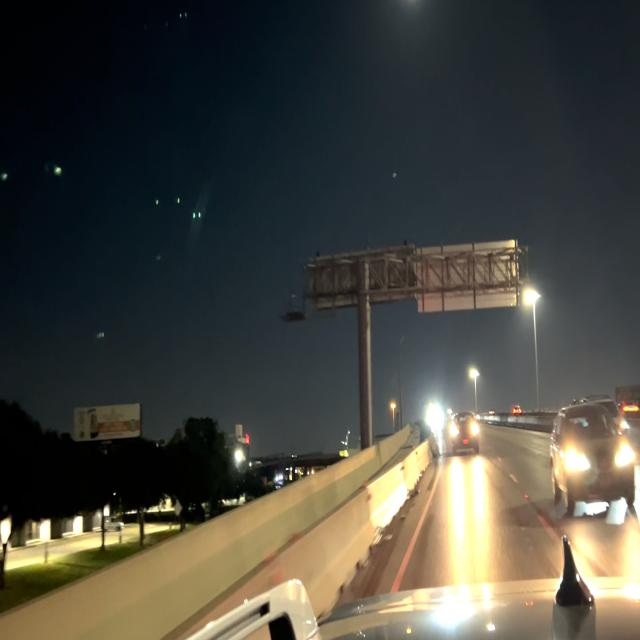back-of-sign: (411, 236, 520, 317)
